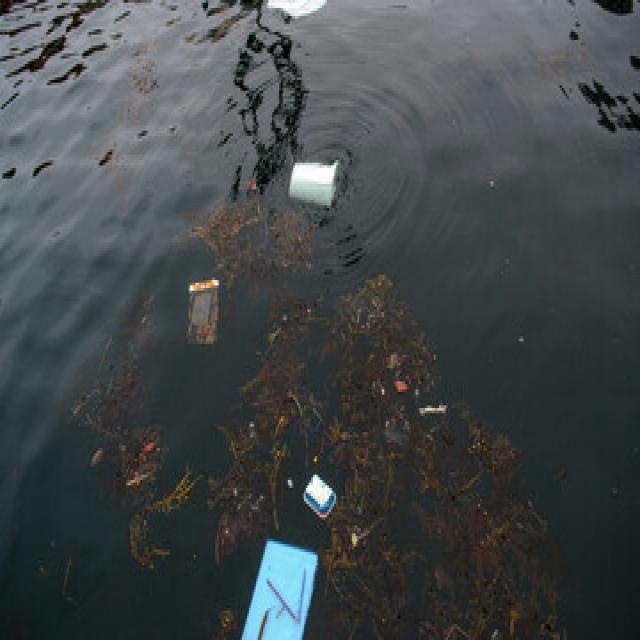Plastic: (288, 154, 349, 206)
Trash: (237, 532, 319, 640), (184, 277, 227, 349), (303, 473, 339, 518), (263, 0, 333, 20)
